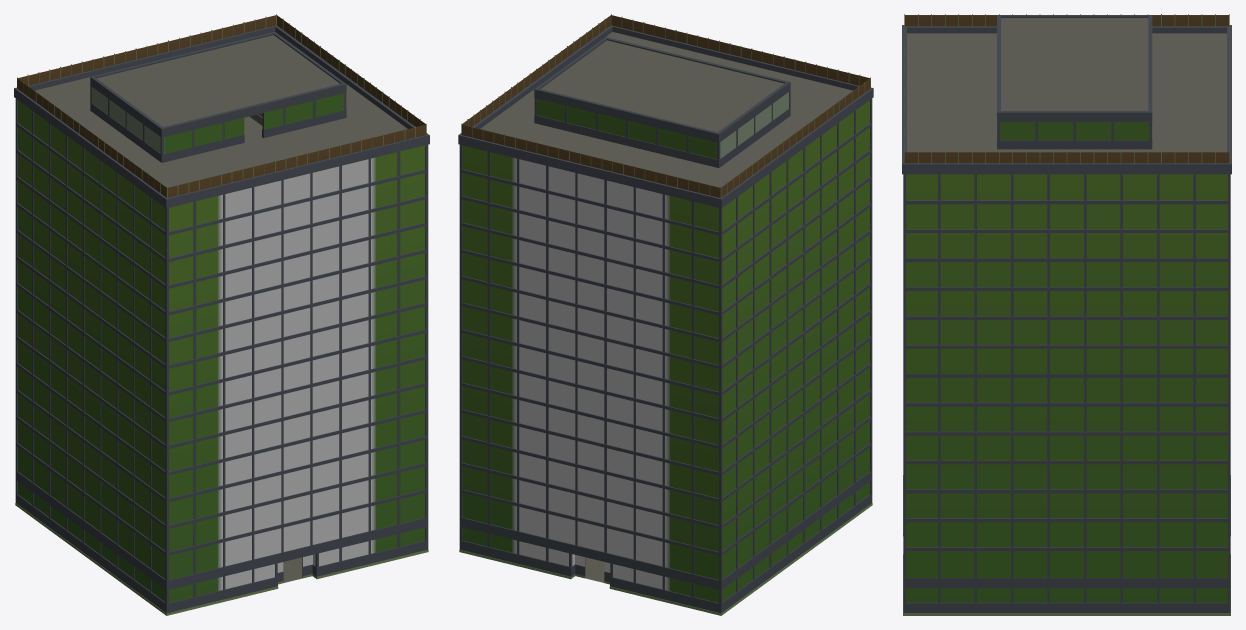
Rendered from House_49.fbx.
The picture shows the model from 3 angles, left to right: view 1: azimuth 30°, elevation 25°; view 2: azimuth 150°, elevation 25°; view 3: azimuth 270°, elevation 25°; orthographic projection. The views are drawn at different scales.
Visible parts, largest first — view 1: House_49; view 2: House_49; view 3: House_49.
Boxes of the visible parts, x1,y1,x2,y2 form: House_49: (14, 14, 429, 615); House_49: (458, 14, 873, 615); House_49: (902, 14, 1231, 615).
Bounding box in the file's own units: 24 × 38.78 × 24.
